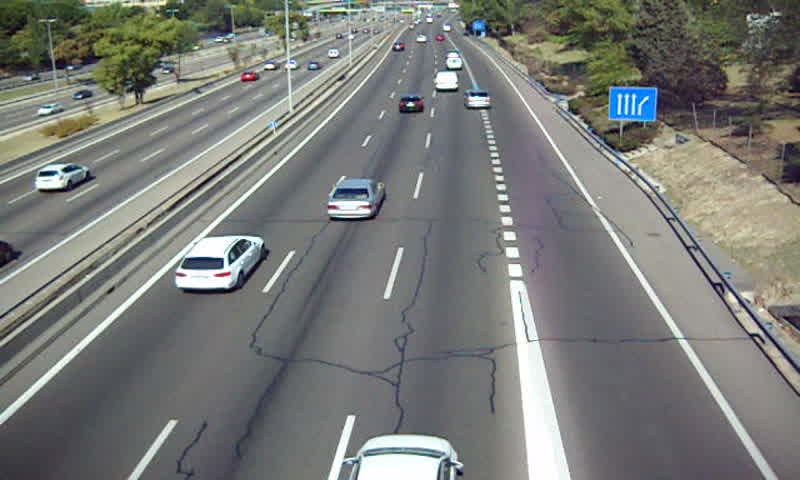car: (174, 235, 265, 293), (326, 178, 384, 220), (465, 88, 493, 110), (396, 95, 424, 114)
van: (432, 70, 459, 93), (448, 56, 464, 71)
